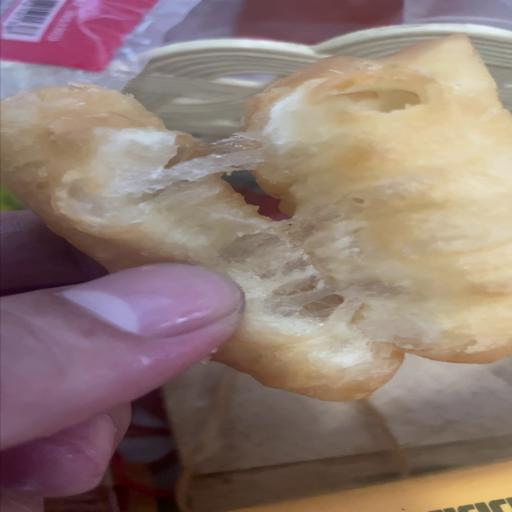street_golden_defect: (6, 31, 512, 404)
